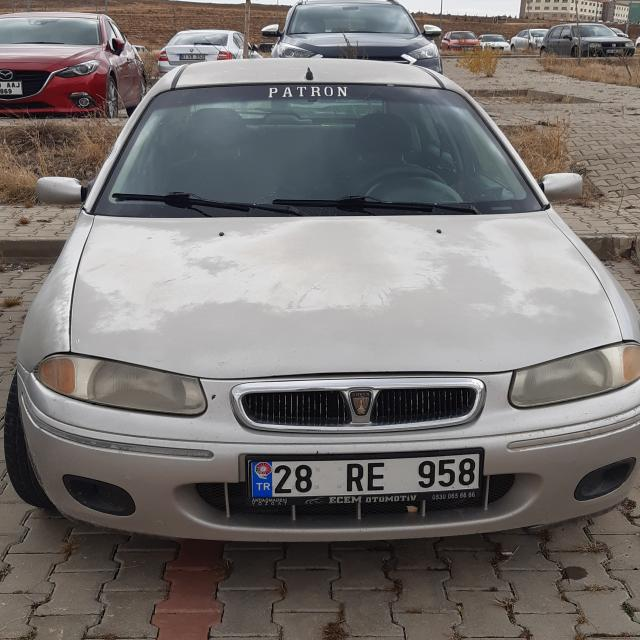plate: (252, 452, 484, 500)
